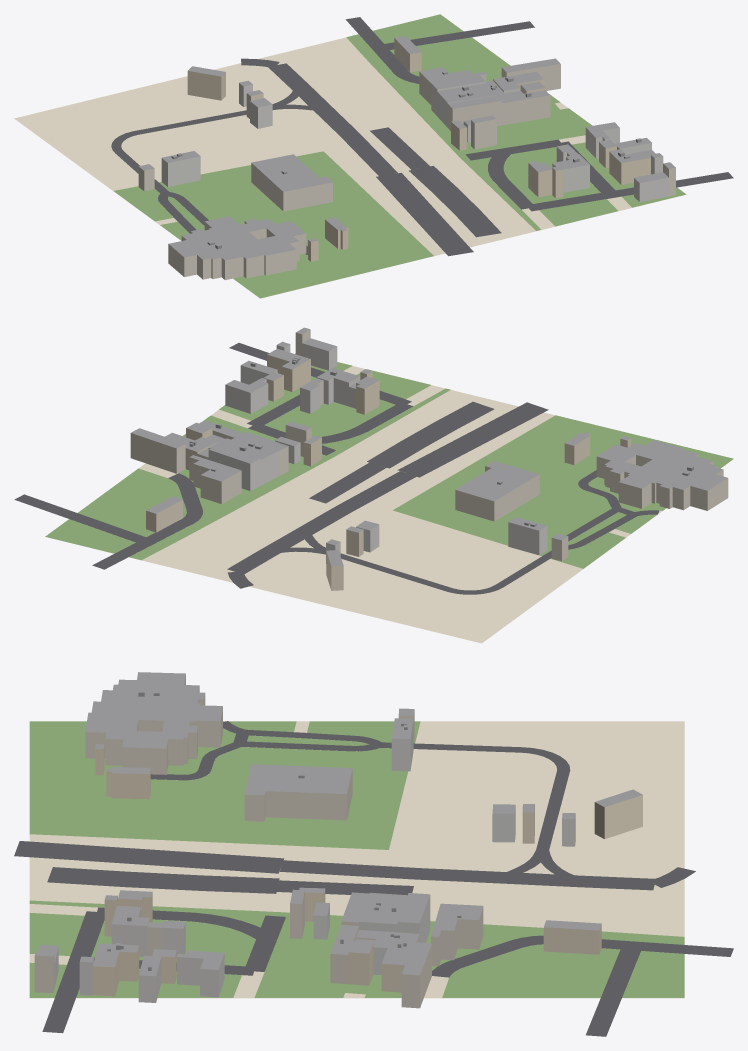
Rendered from tile_0_-3_far.glb.
3 renders of one model, top to bottom at view 1: azimuth 30°, elevation 25°; view 2: azimuth 150°, elevation 25°; view 3: azimuth 270°, elevation 25°, orthographic. The views are drawn at different scales.
Visible parts, largest first — view 1: nature_ground, nature_grass, roads_asphalt, buildings_roof, buildings_concrete_warm, buildings_sandstone, buildings_concrete_light; view 2: nature_ground, nature_grass, roads_asphalt, buildings_roof, buildings_concrete_warm, buildings_concrete_light, buildings_sandstone; view 3: nature_ground, nature_grass, roads_asphalt, buildings_roof, buildings_concrete_warm, buildings_sandstone, buildings_concrete_light.
Boxes of the visible parts, <box> form: nature_ground: <box>14,37,685,298</box>; nature_grass: <box>114,14,686,298</box>; roads_asphalt: <box>111,17,733,256</box>; buildings_roof: <box>139,35,675,260</box>; buildings_concrete_warm: <box>138,64,675,280</box>; buildings_sandstone: <box>187,38,650,261</box>; buildings_concrete_light: <box>161,81,668,201</box>; nature_ground: <box>46,366,733,643</box>; nature_grass: <box>45,353,733,568</box>; roads_asphalt: <box>14,343,658,594</box>; buildings_roof: <box>131,327,727,566</box>; buildings_concrete_warm: <box>130,329,728,561</box>; buildings_concrete_light: <box>208,343,547,563</box>; buildings_sandstone: <box>146,354,630,590</box>; nature_ground: <box>29,721,684,998</box>; nature_grass: <box>29,721,684,997</box>; roads_asphalt: <box>14,721,733,1036</box>; buildings_roof: <box>34,672,642,976</box>; buildings_concrete_warm: <box>34,675,483,1008</box>; buildings_sandstone: <box>92,745,642,996</box>; buildings_concrete_light: <box>54,719,575,1002</box>.
Size of the model in its own units: 306 by 15.67 by 275.
